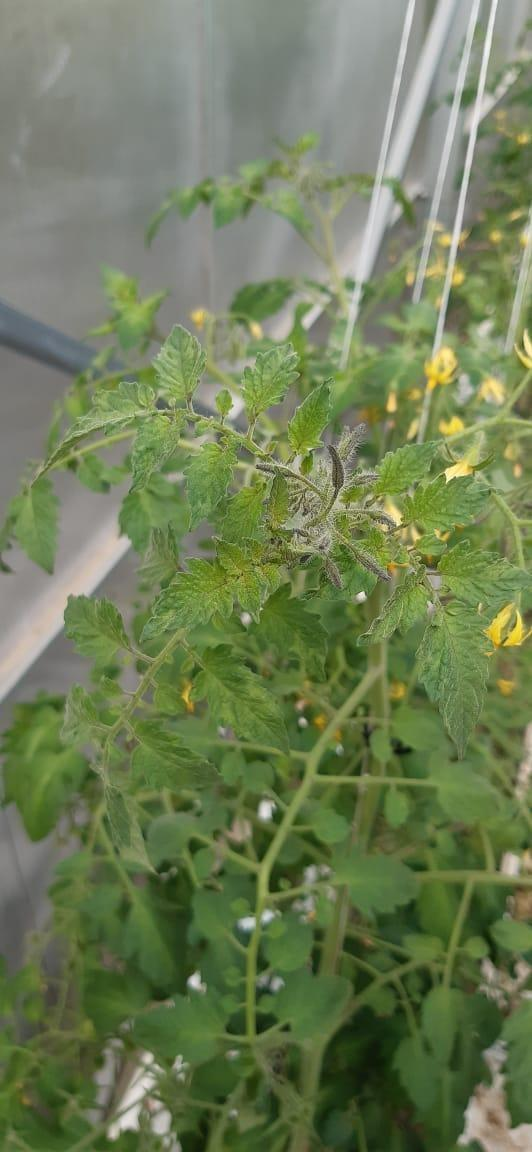Hoja: (192, 645, 287, 750), (130, 721, 218, 790), (62, 597, 129, 660)
Hoja rugoso: (415, 601, 491, 758), (142, 558, 234, 639), (439, 540, 531, 610), (356, 565, 428, 644), (403, 475, 490, 531), (405, 475, 490, 531), (184, 439, 236, 529), (243, 344, 299, 423), (153, 324, 205, 400), (288, 380, 331, 454), (374, 444, 436, 495)
